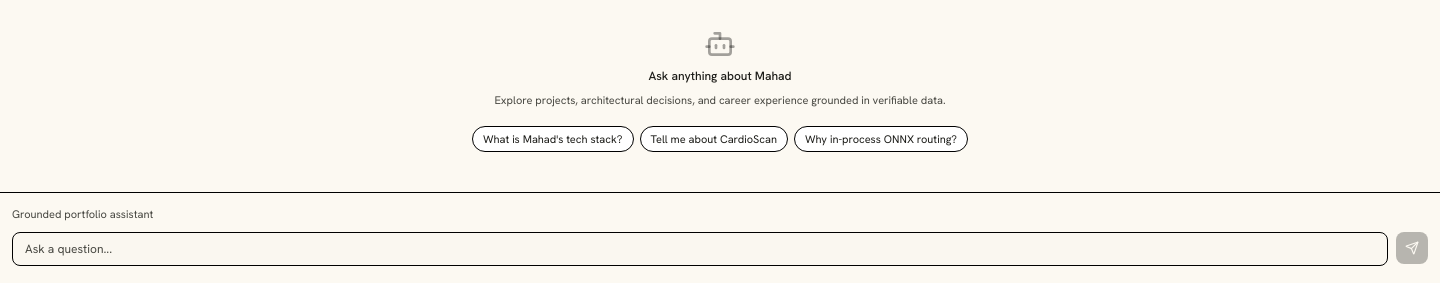
Test case: CompactChatTab (Milestone 13P.8) › submits message and streams assistant response with citations
Type "What is your stack?" into the field with placeholder "Ask a question..." at {"x": 700, "y": 249}, box [12, 232, 1388, 266]
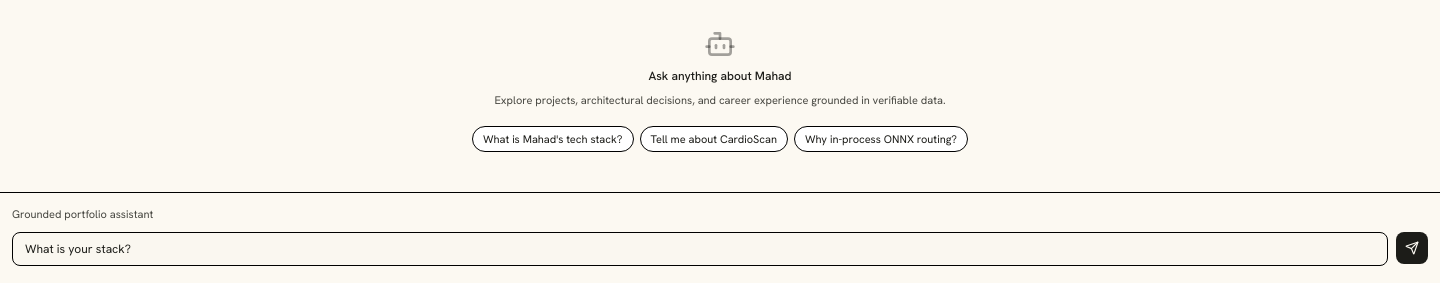
Click the button titled "Send message" at {"x": 1412, "y": 248}, box [1396, 232, 1428, 264]
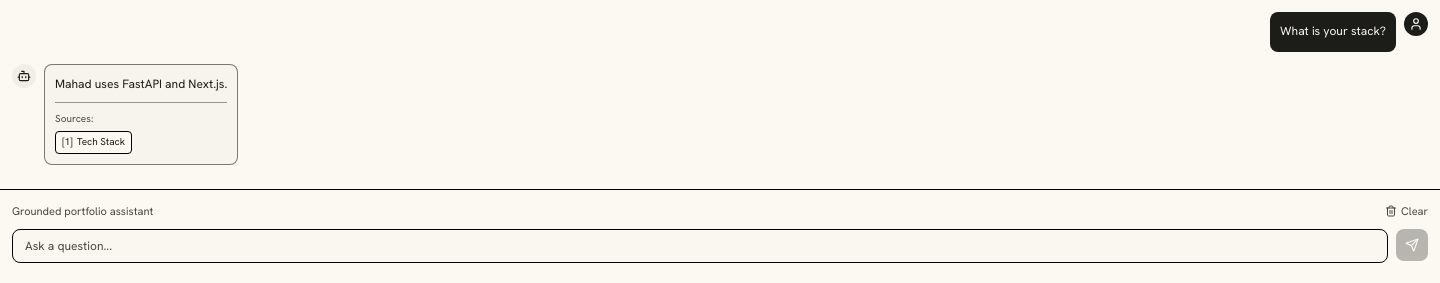
Expected: the text "Tech Stack" is shown, [77, 134, 125, 151]
Expected: the text "What is your stack?" is shown, [1280, 22, 1386, 42]
Expected: the text "Mahad uses FastAPI and Next.js." is shown, [55, 74, 227, 94]
